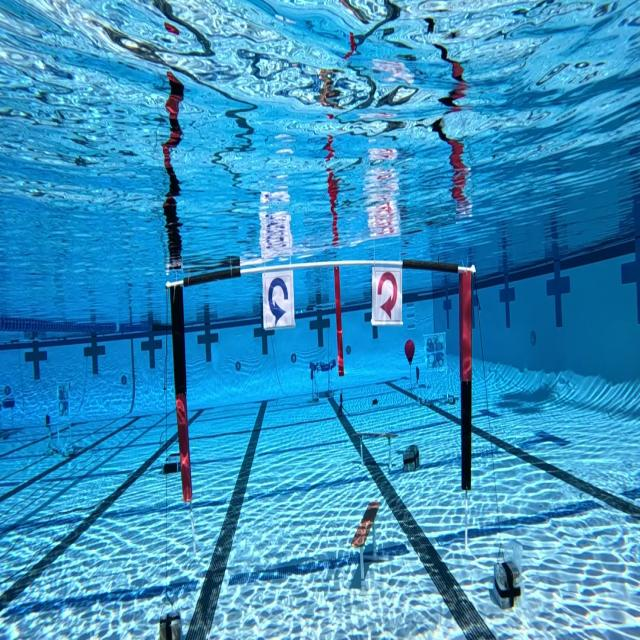blue_side: (258, 261, 300, 337)
red_side: (368, 254, 408, 333)
